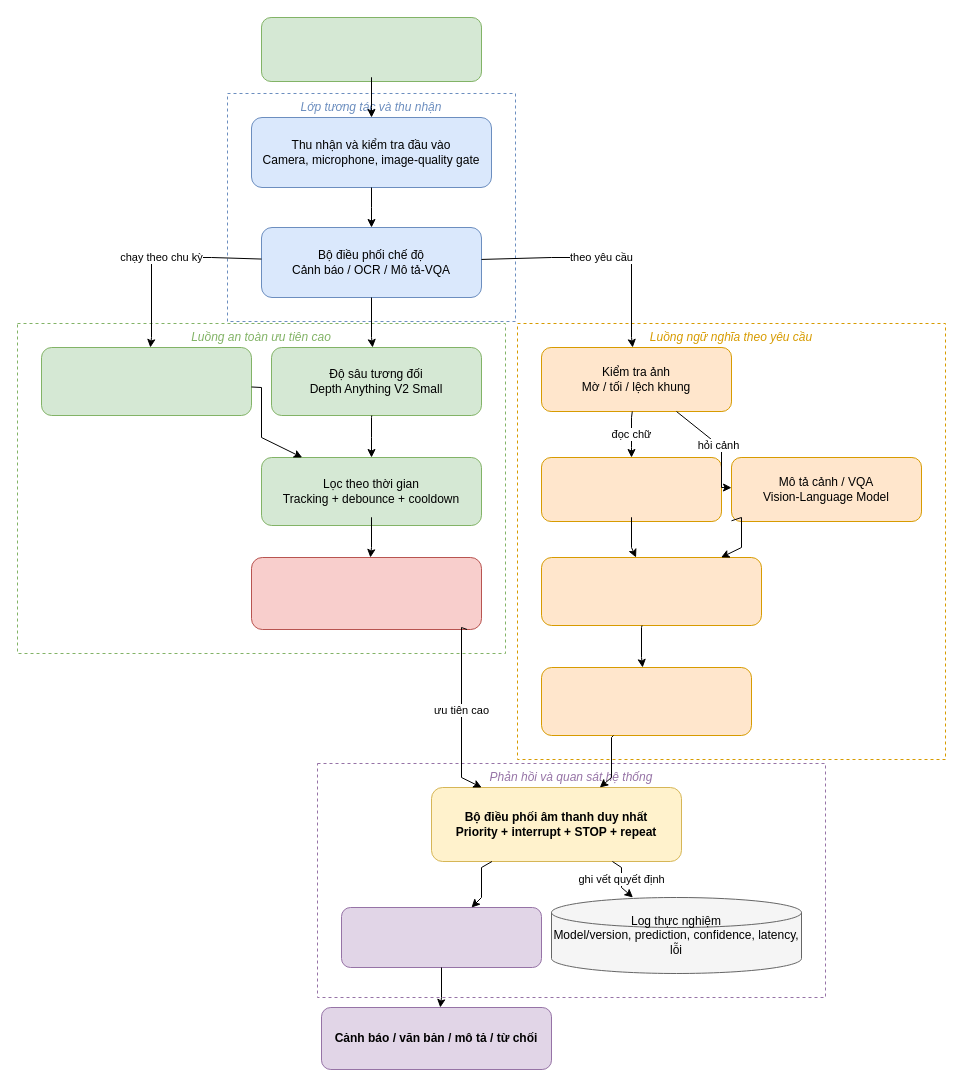
Some shapes in this 963 by 1087 pixel diagram are drawn without their labels. Each missing label, with the centre of its shape:
"Kiểm chứng bằng chứng OCR + detection + answerability" belongs at point (651, 591).
"Người dùng khiếm thị Camera + giọng nói + nút điều khiển" belongs at point (371, 49).
"OCR tiếng Việt PaddleOCR 3.x" belongs at point (631, 489).
"Phát hiện đối tượng và vật cản Detector nhẹ" belongs at point (146, 381).
"Phản hồi an toàn Ngắn + confidence + từ chối" belongs at point (646, 701).
"Risk Fusion Lớp + vùng đi + depth + confidence" belongs at point (366, 593).
"Tổng hợp giọng nói tiếng Việt" belongs at point (441, 937).
